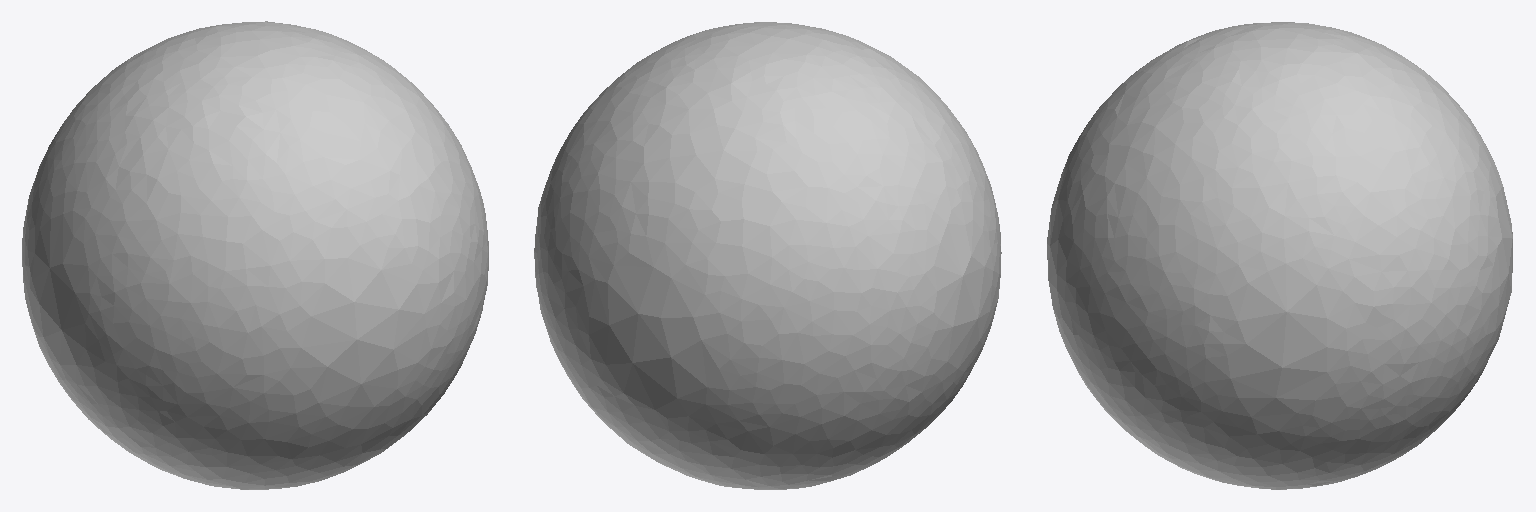
File: SolMeshy.obj
3 views of the same model, side by side, from view 1: azimuth 30°, elevation 25°; view 2: azimuth 150°, elevation 25°; view 3: azimuth 270°, elevation 25° (orthographic).
Visible parts, largest first — view 1: Realistic_Sun_star_b_[number redacted]_texture; view 2: Realistic_Sun_star_b_[number redacted]_texture; view 3: Realistic_Sun_star_b_[number redacted]_texture.
Boxes of the visible parts, x1=… form: Realistic_Sun_star_b_[number redacted]_texture: x1=22, y1=21, x2=488, y2=489; Realistic_Sun_star_b_[number redacted]_texture: x1=534, y1=22, x2=1001, y2=489; Realistic_Sun_star_b_[number redacted]_texture: x1=1047, y1=22, x2=1512, y2=489.
Size of the model in its own units: 1.91 by 1.91 by 1.91.